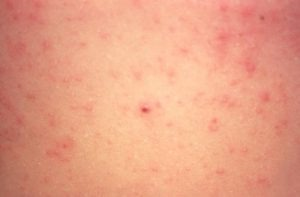Acne: (3, 10, 264, 156)
